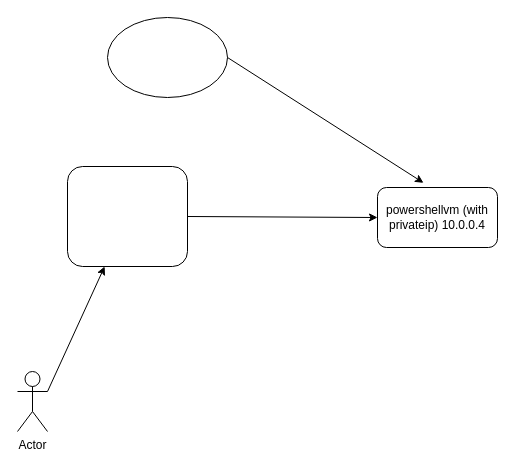
Image size: 515x470. Some labels were removed from this diagram. The shapes that lost their labels are listed below. From the top down, each one's box as (x1, y1, x2, y2) in pixels, then its label:
(106, 16, 228, 98): devops pipeline (trigger master script as a background job)
(66, 166, 188, 266): demovm (with public ip)
